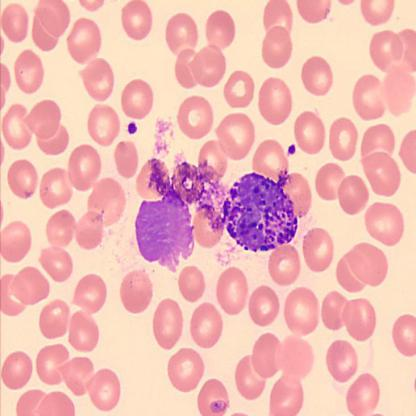Basophil: (218, 170, 299, 254)
